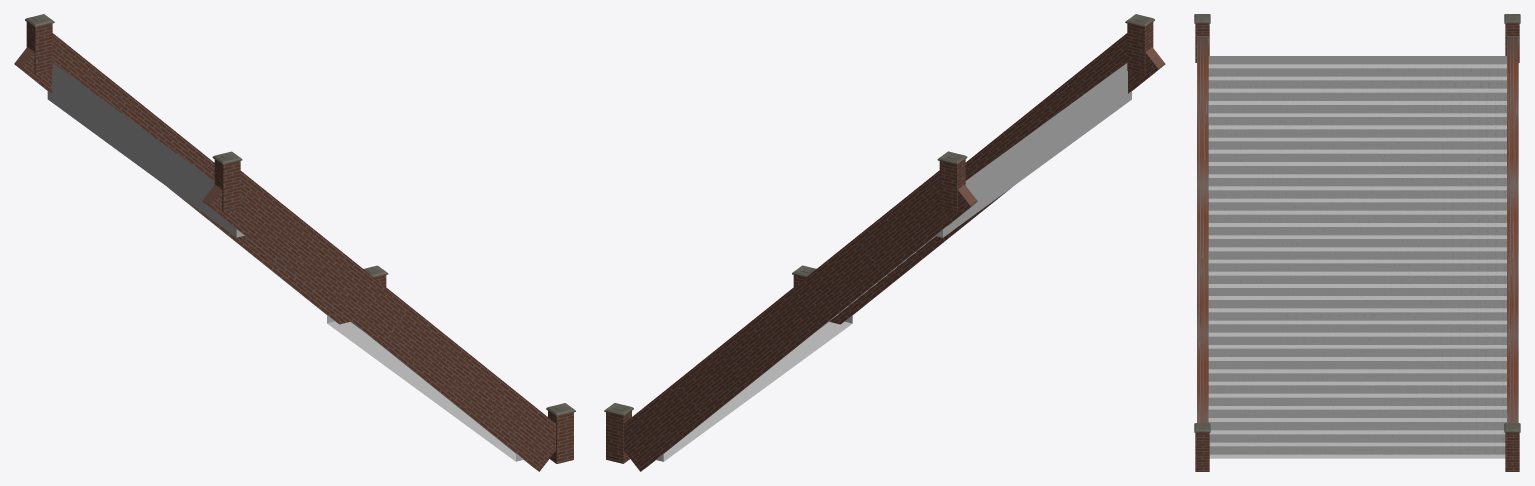
File: StoneStairs_04.fbx
3 views of the same model, side by side, from view 1: azimuth 30°, elevation 25°; view 2: azimuth 150°, elevation 25°; view 3: azimuth 270°, elevation 25° (orthographic). The views are drawn at different scales.
Parts seen in each view (by area): view 1: Cube.001, Cube; view 2: Cube.001, Cube; view 3: Cube, Cube.001.
Boxes of the visible parts, x1,y1,x2,y2 form: Cube.001: (14,14,575,471); Cube: (47,63,523,461); Cube.001: (604,14,1165,471); Cube: (656,63,1131,461); Cube: (1208,56,1506,458); Cube.001: (1194,14,1520,471).
Size of the model in its own units: 73.7 by 74.82 by 69.07.
Materials: 7 (7 with a texture image).
